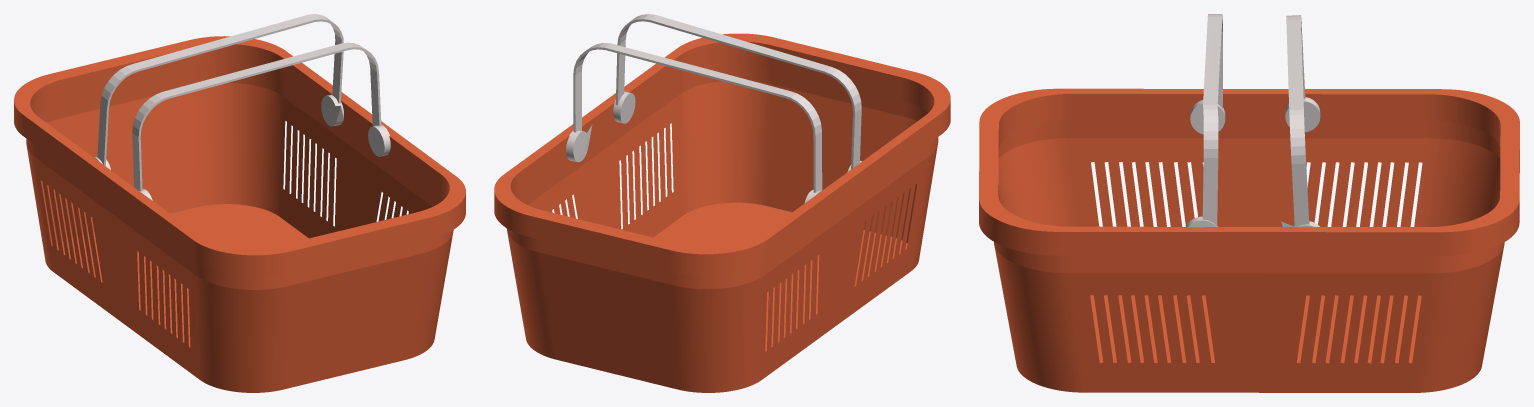
File: ShoppingCart.fbx
3 renders of one model, left to right at view 1: azimuth 30°, elevation 25°; view 2: azimuth 150°, elevation 25°; view 3: azimuth 270°, elevation 25°, orthographic. The views are drawn at different scales.
Parts seen in each view (by area): view 1: ShoppingCart; view 2: ShoppingCart; view 3: ShoppingCart.
Boxes of the visible parts, x1,y1,x2,y2 form: ShoppingCart: (14, 14, 465, 392); ShoppingCart: (494, 14, 950, 392); ShoppingCart: (979, 14, 1519, 392).
Size of the model in its own units: 9.59 by 8.51 by 15.28.
